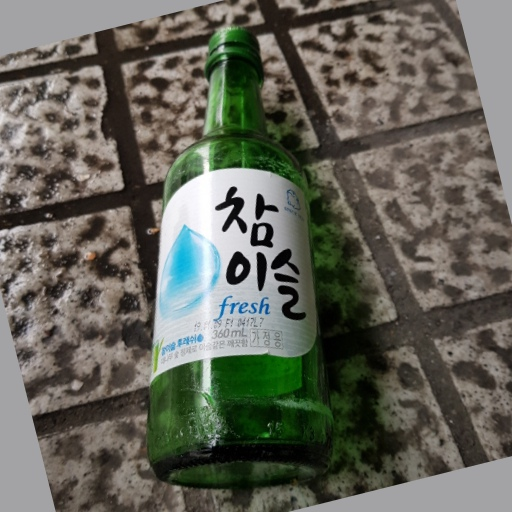Glass_0: (147, 21, 331, 486)
